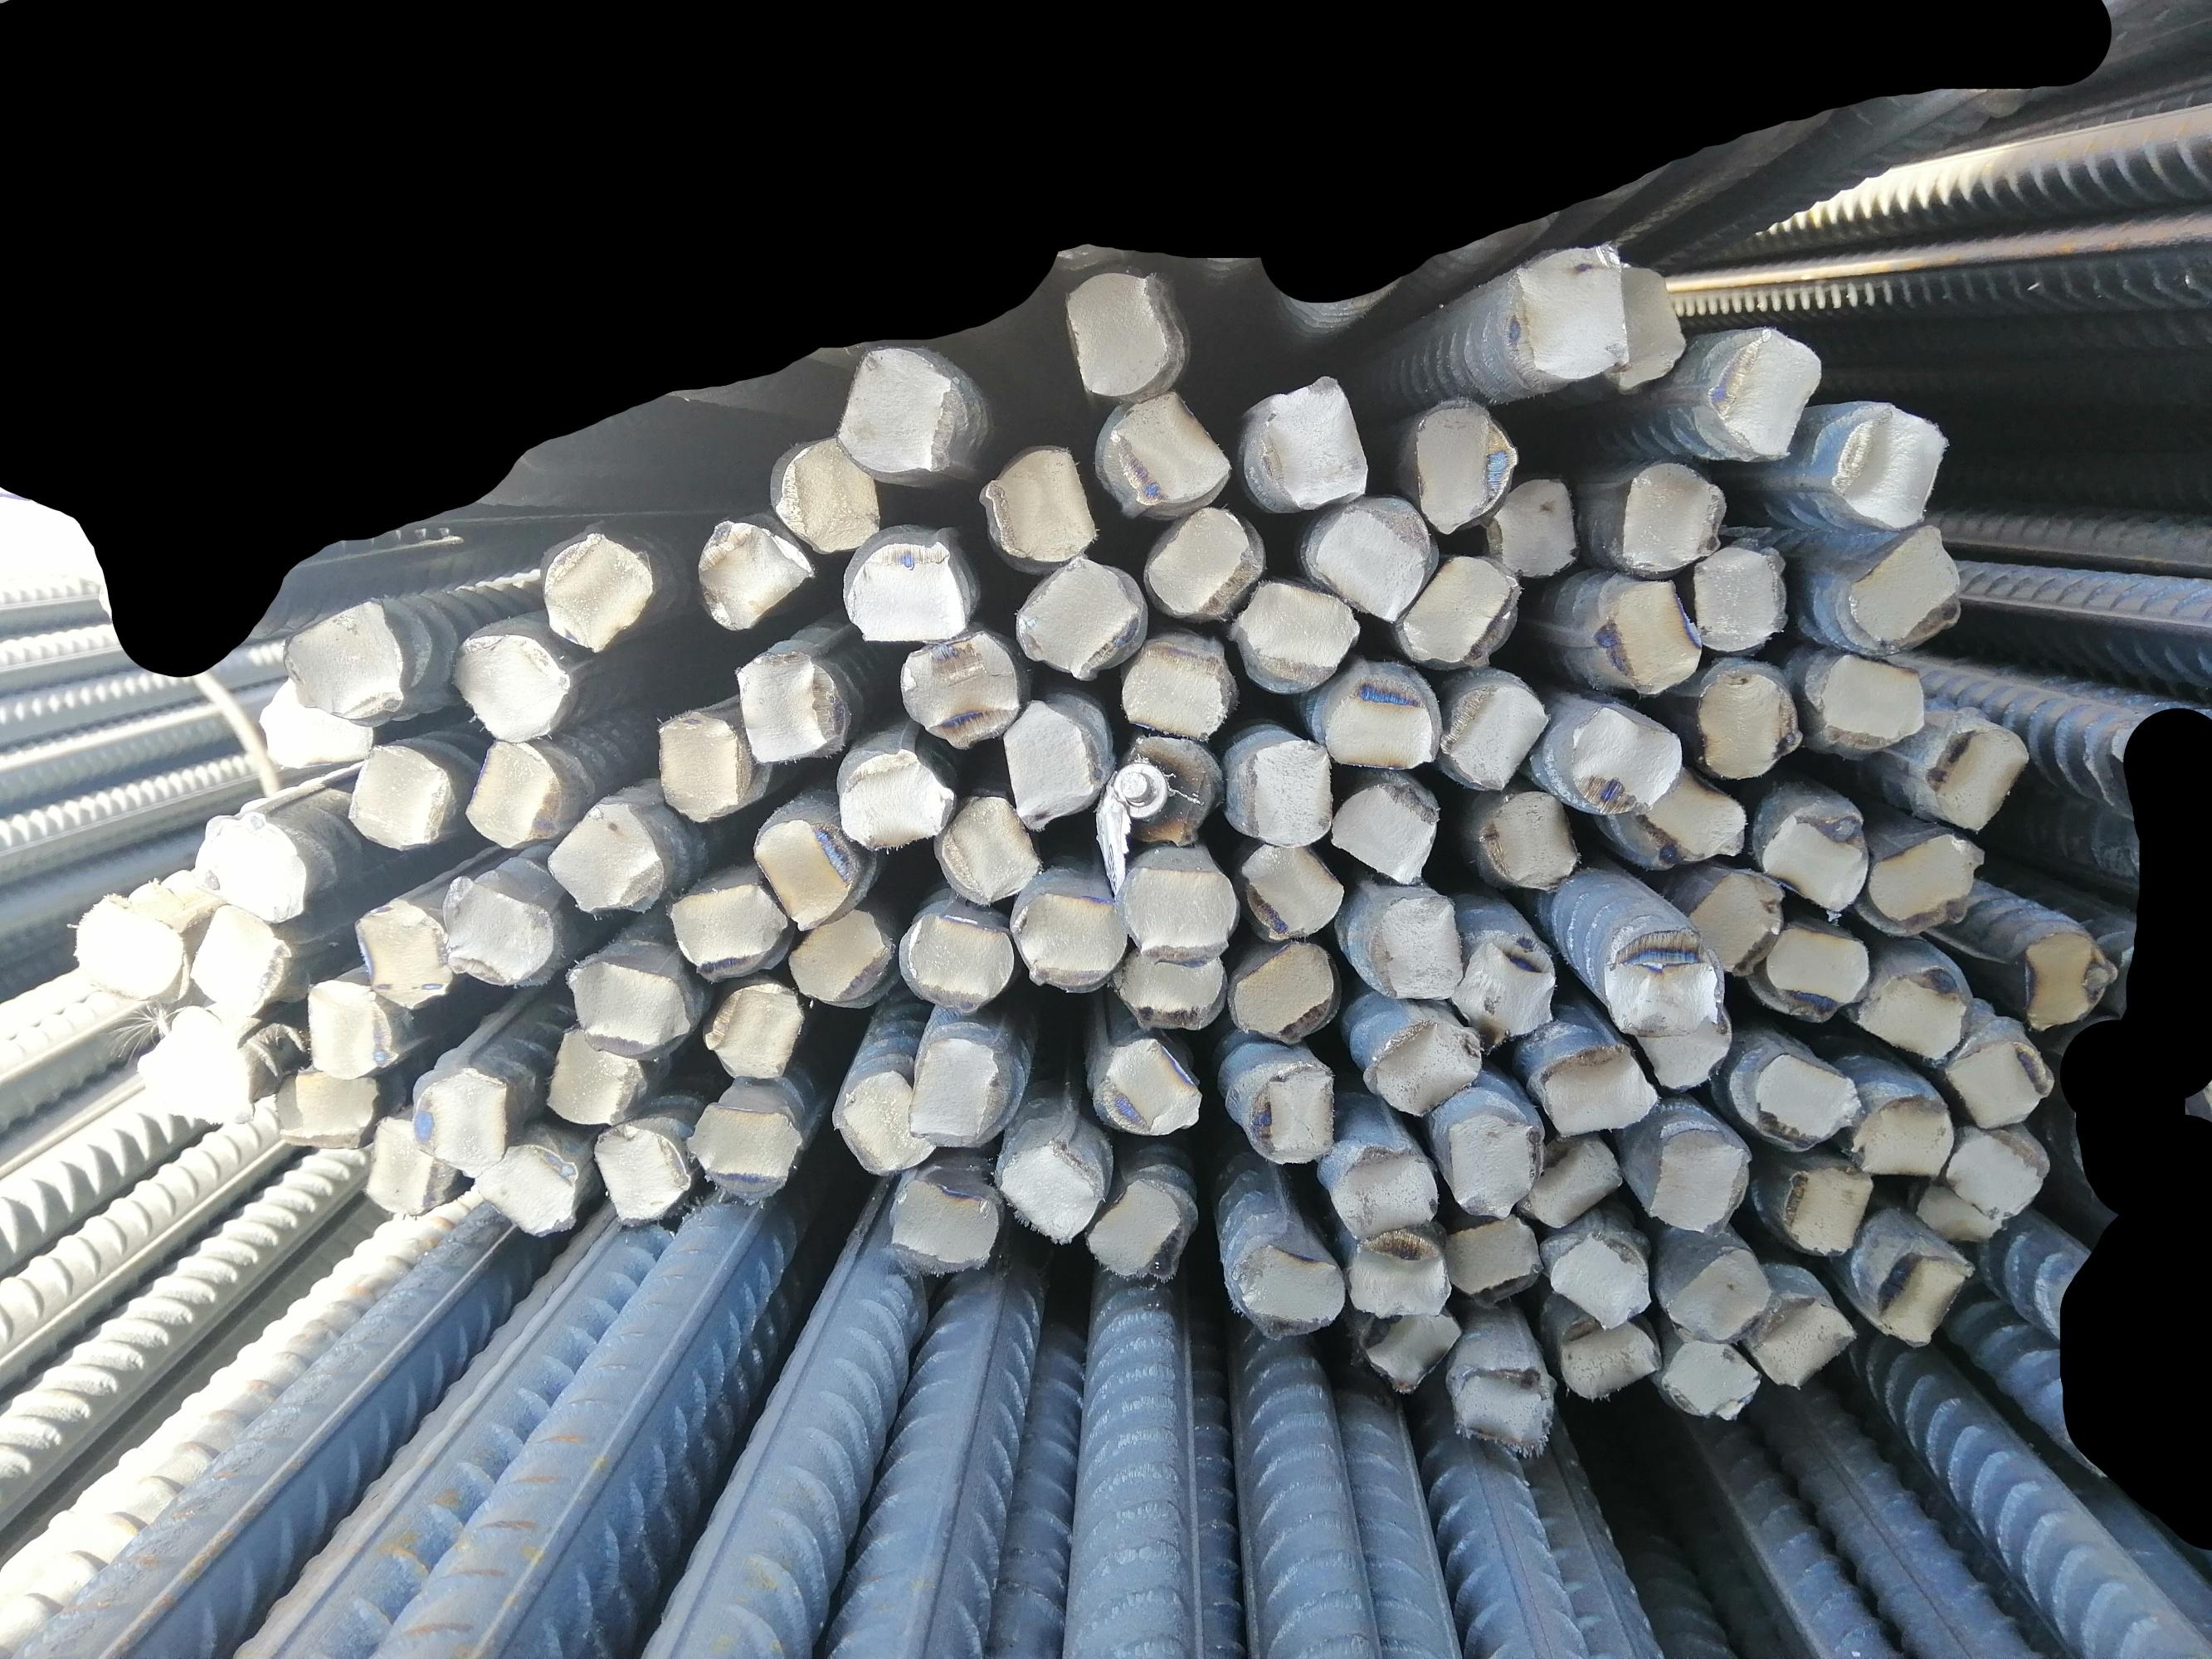bar: (1510, 235, 1635, 382), (1816, 401, 1952, 532), (1701, 322, 1830, 460), (560, 932, 694, 1058), (833, 345, 955, 483), (1062, 265, 1184, 403), (1252, 373, 1372, 511), (1016, 552, 1143, 681), (1313, 493, 1435, 626), (1231, 572, 1360, 695), (1098, 394, 1234, 511), (286, 592, 408, 721), (901, 622, 1025, 748), (980, 437, 1100, 566), (1611, 762, 1752, 871), (751, 810, 872, 936), (1837, 525, 1963, 645), (546, 795, 668, 917), (842, 532, 967, 650), (537, 526, 654, 653), (1414, 394, 1517, 535), (450, 622, 570, 742), (999, 692, 1103, 829), (926, 786, 1044, 906), (882, 1171, 1002, 1290), (692, 514, 814, 631), (1590, 575, 1705, 699), (1401, 549, 1518, 669), (1562, 699, 1684, 814), (1691, 662, 1806, 784), (1588, 258, 1691, 394), (1598, 925, 1726, 1035), (1614, 455, 1729, 575), (1759, 795, 1872, 917), (1442, 667, 1550, 795), (340, 735, 458, 850), (1320, 657, 1440, 770), (1865, 829, 1989, 939), (661, 877, 790, 981), (1143, 507, 1267, 615), (1435, 1100, 1543, 1223), (1851, 957, 1975, 1065), (441, 871, 556, 986), (769, 437, 884, 552), (1123, 849, 1238, 964), (988, 1127, 1100, 1246), (737, 647, 847, 767), (249, 671, 375, 775), (1360, 1012, 1487, 1115), (1227, 732, 1337, 850), (1109, 732, 1220, 847), (1447, 931, 1558, 1046), (833, 744, 953, 850), (899, 906, 1013, 1018), (345, 887, 451, 1006), (682, 1098, 802, 1202), (195, 805, 305, 918), (1330, 772, 1443, 882), (1921, 723, 2031, 836), (652, 708, 760, 823), (1229, 1230, 1344, 1338), (1640, 1126, 1755, 1234), (404, 1061, 509, 1180), (187, 901, 289, 1021), (132, 1026, 258, 1124), (2006, 922, 2114, 1035), (586, 1117, 695, 1227), (1764, 917, 1874, 1026), (903, 1035, 1011, 1147), (1227, 936, 1335, 1047), (1750, 1040, 1858, 1152), (1689, 537, 1792, 653), (1365, 887, 1466, 1006), (75, 896, 183, 1006), (1478, 788, 1586, 897), (830, 1065, 936, 1176), (1443, 1358, 1557, 1462), (1682, 866, 1787, 979), (537, 1021, 647, 1127), (1870, 1241, 1980, 1347), (1537, 1040, 1661, 1134), (1813, 647, 1928, 748), (1093, 1037, 1201, 1143), (1016, 890, 1130, 992), (1117, 641, 1231, 742), (465, 739, 565, 852), (357, 1114, 462, 1220), (784, 903, 891, 1007), (474, 1133, 584, 1234), (1239, 836, 1346, 939), (706, 976, 805, 1086), (1086, 1171, 1187, 1277), (1332, 1141, 1438, 1243), (1241, 1056, 1337, 1168), (1940, 1122, 2053, 1216), (1550, 1227, 1652, 1330), (1443, 1209, 1544, 1314), (1944, 1037, 2062, 1126), (302, 972, 399, 1079), (1663, 1246, 1771, 1342), (1747, 1290, 1855, 1385), (1518, 1131, 1626, 1227), (1849, 1082, 1958, 1178), (1483, 472, 1578, 582), (1119, 941, 1231, 1033), (1628, 1002, 1740, 1094), (1346, 1227, 1454, 1321), (268, 1060, 382, 1147), (1778, 1159, 1877, 1258), (1555, 1314, 1663, 1405), (1360, 1305, 1462, 1394), (1663, 1333, 1764, 1422), (1910, 1175, 2013, 1251)
